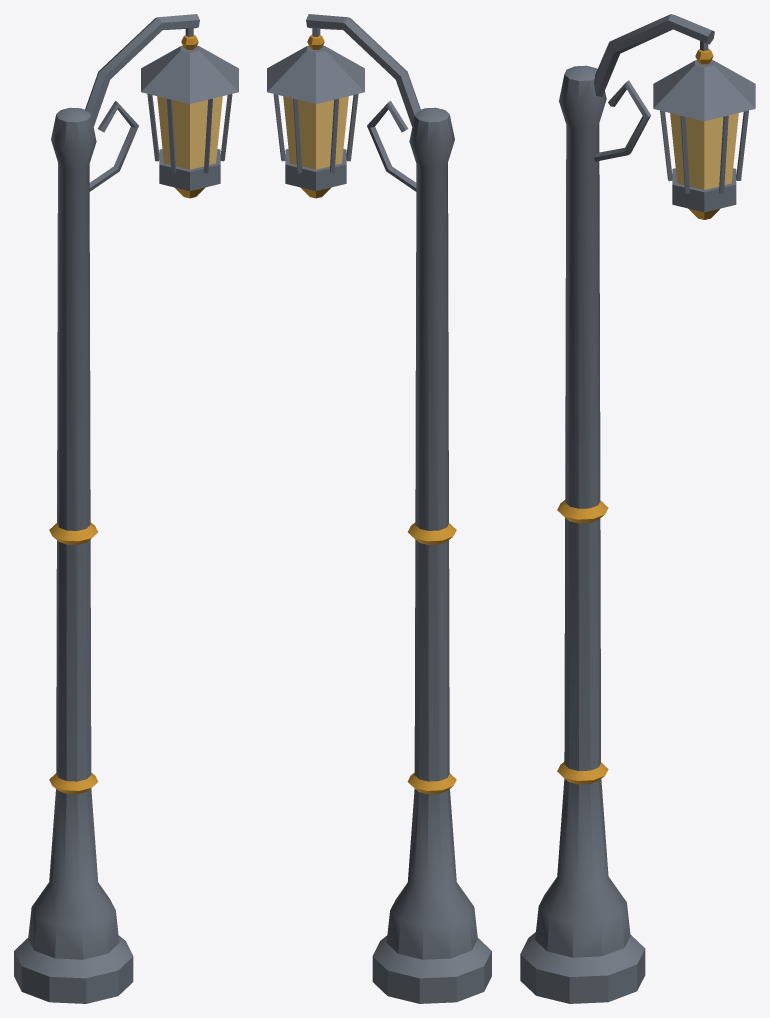
Rendered from LampPost.fbx.
The picture shows the model from 3 angles, left to right: view 1: azimuth 30°, elevation 25°; view 2: azimuth 150°, elevation 25°; view 3: azimuth 330°, elevation 25°; orthographic projection. The views are drawn at different scales.
Parts seen in each view (by area): view 1: Post; view 2: Post; view 3: Post.
Boxes of the visible parts, x1,y1,x2,y2 form: Post: (14,14,238,1003); Post: (267,14,491,1003); Post: (520,14,755,1003).
Size of the model in its own units: 0.71 by 2.94 by 0.3234.
